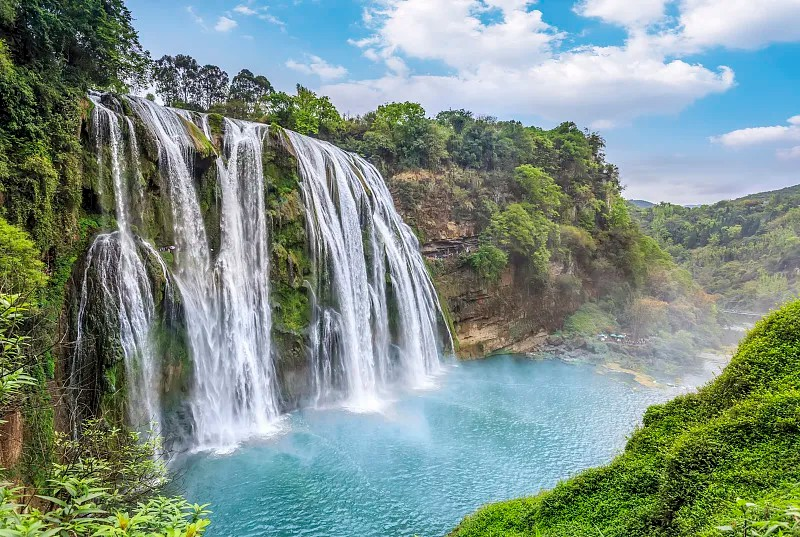Huangguoshu: (78, 88, 458, 458)
